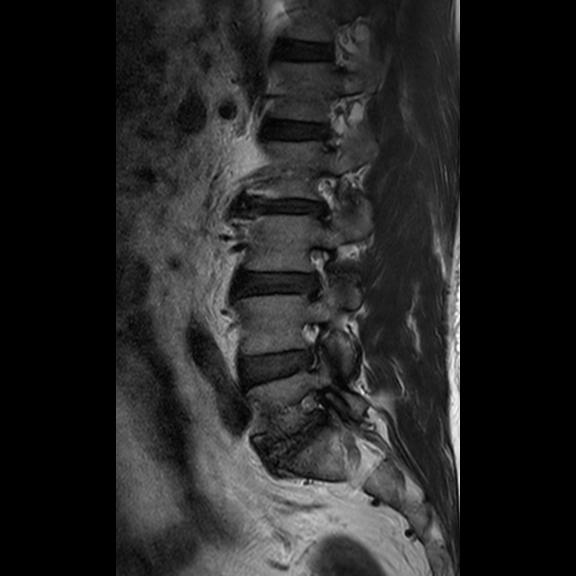LFS0: (306, 163, 352, 235), (293, 239, 339, 309), (288, 313, 331, 379)
